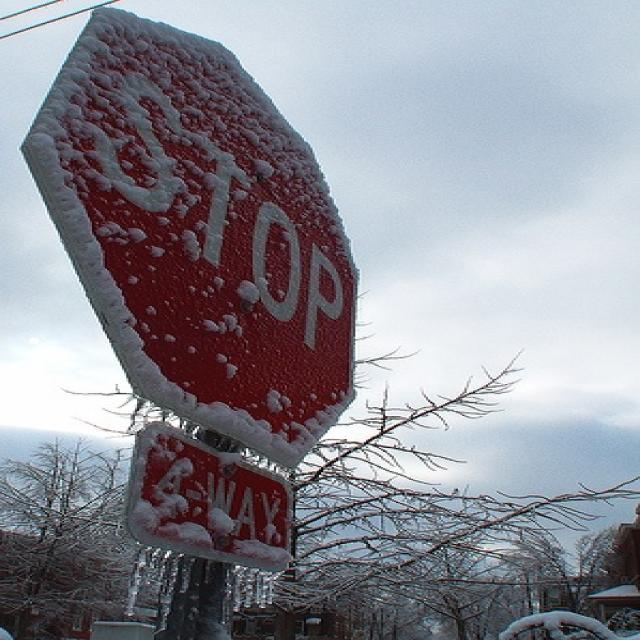pole: (160, 421, 257, 639)
